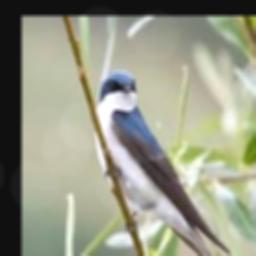Swallow: (94, 70, 231, 256)
